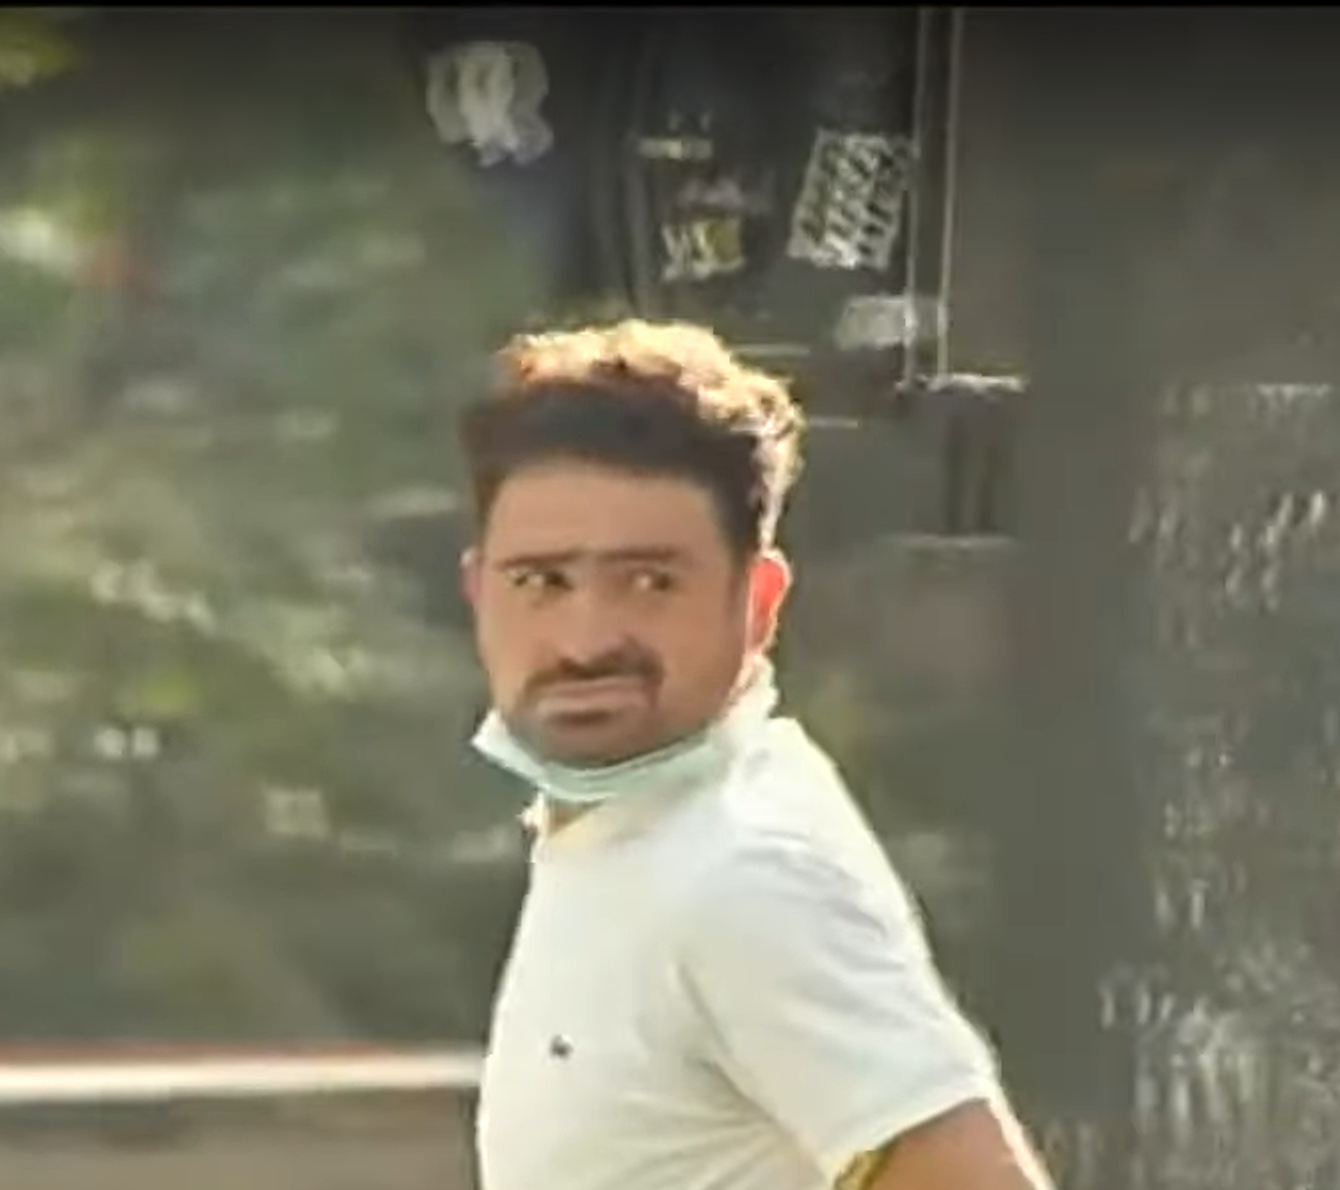mask_weared_incorrect: (437, 431, 807, 812)
